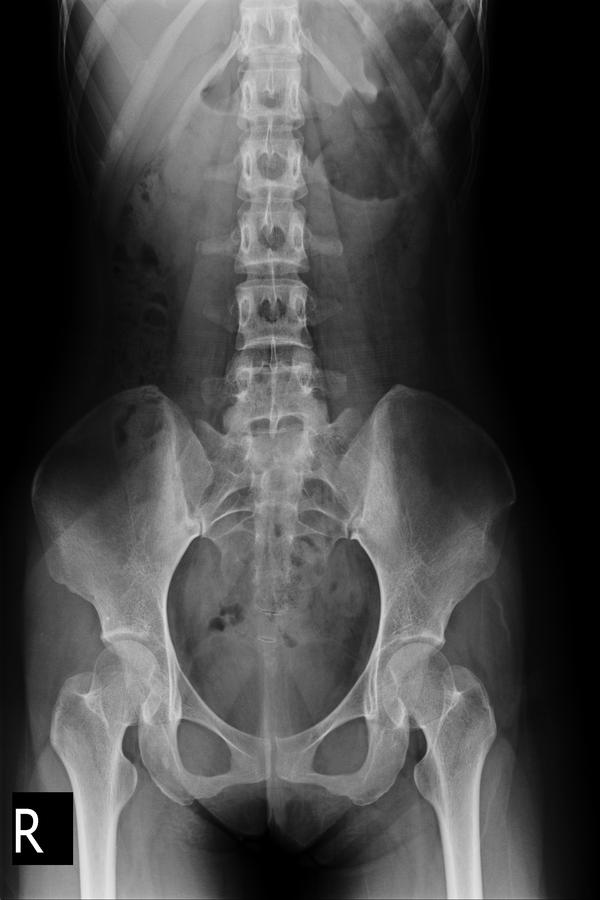not lumbar scoliosis: (222, 128, 323, 483)
